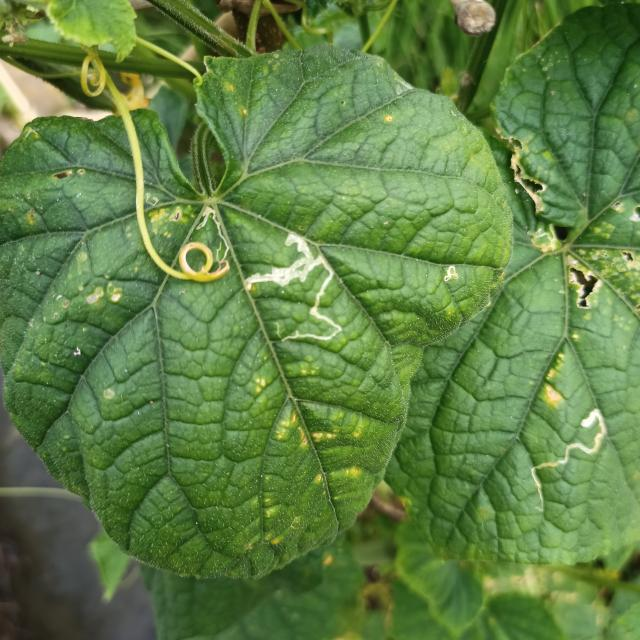disease_cucumber: (278, 412, 340, 454), (150, 206, 193, 237)
